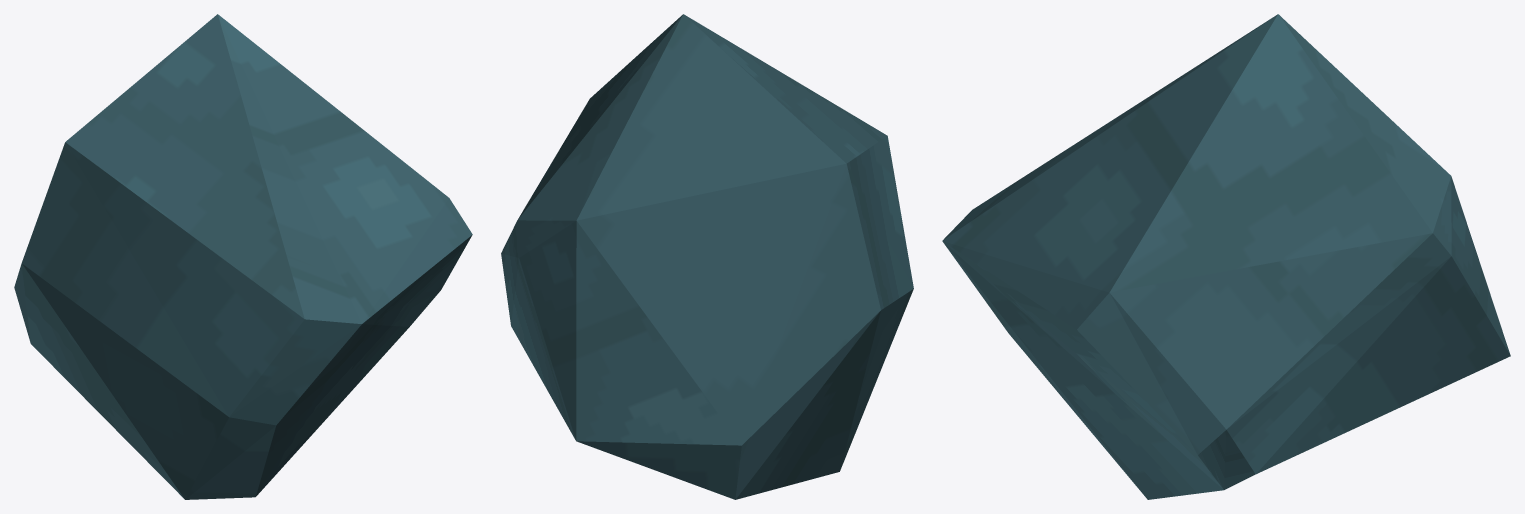
Rendered from CrashRock_C07_01.fbx.
3 renders of one model, left to right at view 1: azimuth 30°, elevation 25°; view 2: azimuth 150°, elevation 25°; view 3: azimuth 270°, elevation 25°, orthographic. The views are drawn at different scales.
Visible parts, largest first — view 1: CrashRock_C07; view 2: CrashRock_C07; view 3: CrashRock_C07.
Boxes of the visible parts, box(x1,y1,x2,y2) form: CrashRock_C07: box(14, 14, 472, 499); CrashRock_C07: box(501, 14, 913, 499); CrashRock_C07: box(942, 14, 1510, 499).
Bounding box in the file's own units: 0.9698 × 1.08 × 1.12.
Materials: 1 (1 with a texture image).
